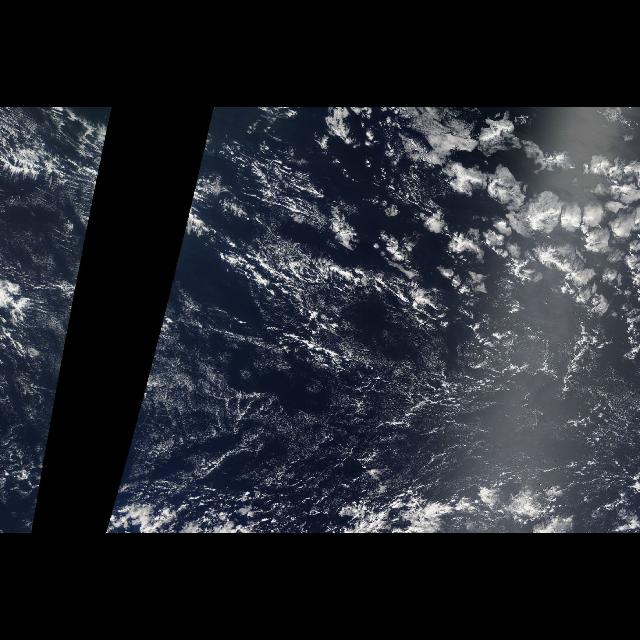Flower: (364, 114, 636, 326)
Gravel: (161, 365, 457, 491)
Sugar: (117, 368, 629, 486)
